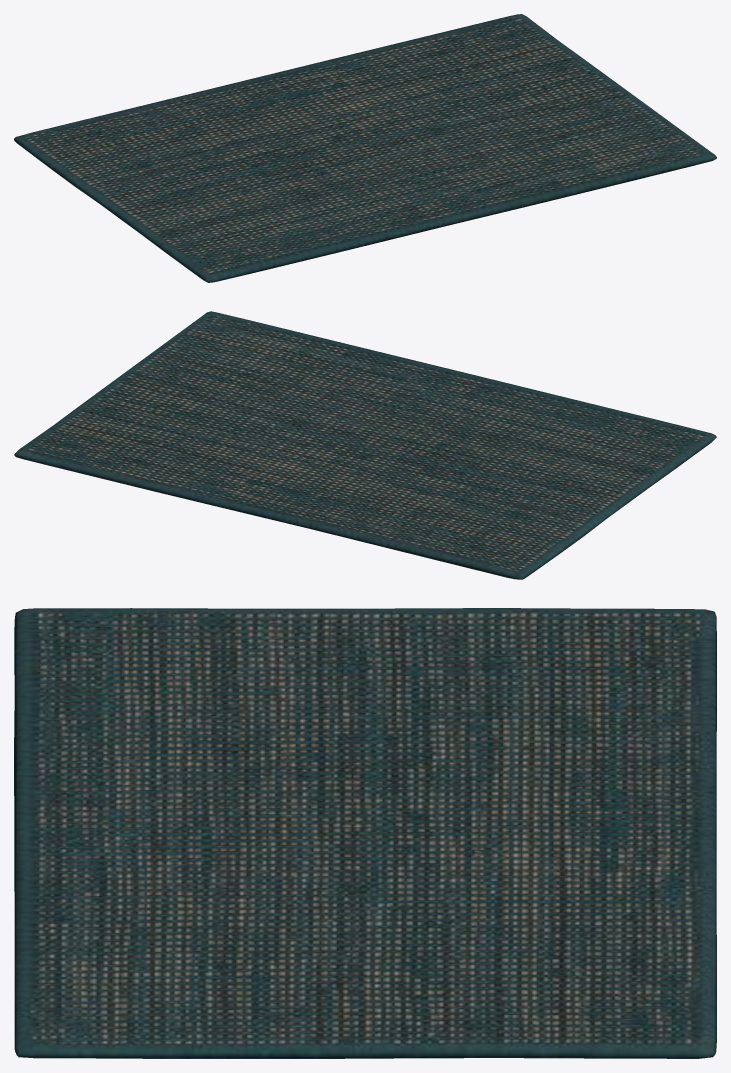
The model's file is 20 - LANDBANA Door mat - dark blue 60x90 cm.glb.
3 renders of one model, top to bottom at view 1: azimuth 30°, elevation 25°; view 2: azimuth 150°, elevation 25°; view 3: azimuth 270°, elevation 25°, orthographic. The views are drawn at different scales.
Visible parts, largest first — view 1: ASY_ART_60556157_S01_NV01; view 2: ASY_ART_60556157_S01_NV01; view 3: ASY_ART_60556157_S01_NV01.
Part boxes in pixels (box(x1,y1,x2,y2)): ASY_ART_60556157_S01_NV01: box(14, 14, 716, 282); ASY_ART_60556157_S01_NV01: box(14, 311, 716, 579); ASY_ART_60556157_S01_NV01: box(14, 608, 716, 1058).
Size of the model in its own units: 0.9016 by 0.00967 by 0.6007.
Materials: 1 (1 with a texture image).
